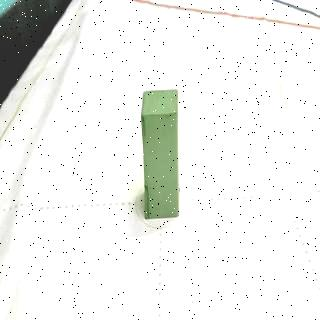greenbox: (140, 89, 181, 219)
